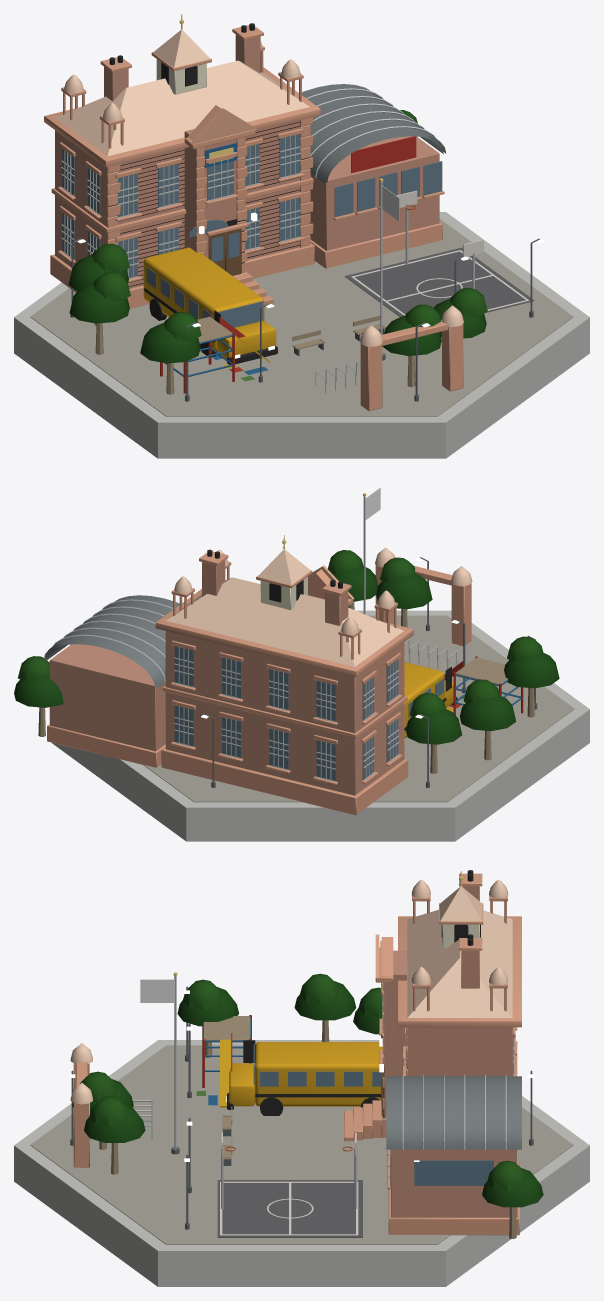
The model's file is school_india.glb.
The picture shows the model from 3 angles, top to bottom: view 1: azimuth 30°, elevation 25°; view 2: azimuth 150°, elevation 25°; view 3: azimuth 270°, elevation 25°; orthographic projection. The views are drawn at different scales.
Parts seen in each view (by area): view 1: wall_concrete, pavers, stone, brick, plaster, glass, paint, leaf, asphalt, dark, wood, metal (+1 smaller); view 2: wall_concrete, brick, stone, pavers, plaster, leaf, glass, paint, wood, metal, steel_dark, dark; view 3: wall_concrete, pavers, brick, stone, plaster, leaf, paint, asphalt, glass, wood, metal, dark (+2 smaller).
Part boxes in pixels (x1,y1,x2,y2): wall_concrete: [14, 84, 589, 458]; pavers: [30, 219, 573, 416]; stone: [44, 25, 463, 411]; brick: [55, 34, 439, 288]; plaster: [55, 29, 463, 346]; glass: [62, 134, 442, 327]; paint: [143, 136, 529, 393]; leaf: [68, 110, 487, 363]; asphalt: [344, 247, 534, 316]; dark: [107, 23, 310, 364]; wood: [94, 228, 415, 394]; metal: [306, 88, 474, 393]; wall_concrete: [43, 595, 589, 841]; brick: [49, 560, 403, 795]; stone: [47, 551, 471, 814]; pavers: [143, 615, 574, 802]; plaster: [166, 547, 472, 666]; leaf: [14, 550, 559, 744]; glass: [174, 646, 444, 780]; paint: [404, 656, 523, 738]; wood: [38, 601, 534, 773]; metal: [52, 496, 456, 682]; steel_dark: [205, 557, 537, 787]; dark: [207, 549, 457, 749]; wall_concrete: [14, 995, 589, 1286]; pavers: [30, 1045, 573, 1244]; brick: [384, 886, 517, 1217]; stone: [73, 873, 521, 1235]; plaster: [70, 879, 512, 1104]; leaf: [72, 973, 543, 1207]; paint: [196, 1015, 382, 1235]; asphalt: [217, 1180, 362, 1237]; glass: [253, 1037, 513, 1186]; wood: [99, 1016, 516, 1238]; metal: [133, 975, 506, 1209]; dark: [227, 870, 480, 1118].
Size of the model in its own units: 21.48 by 13.7 by 24.6.
